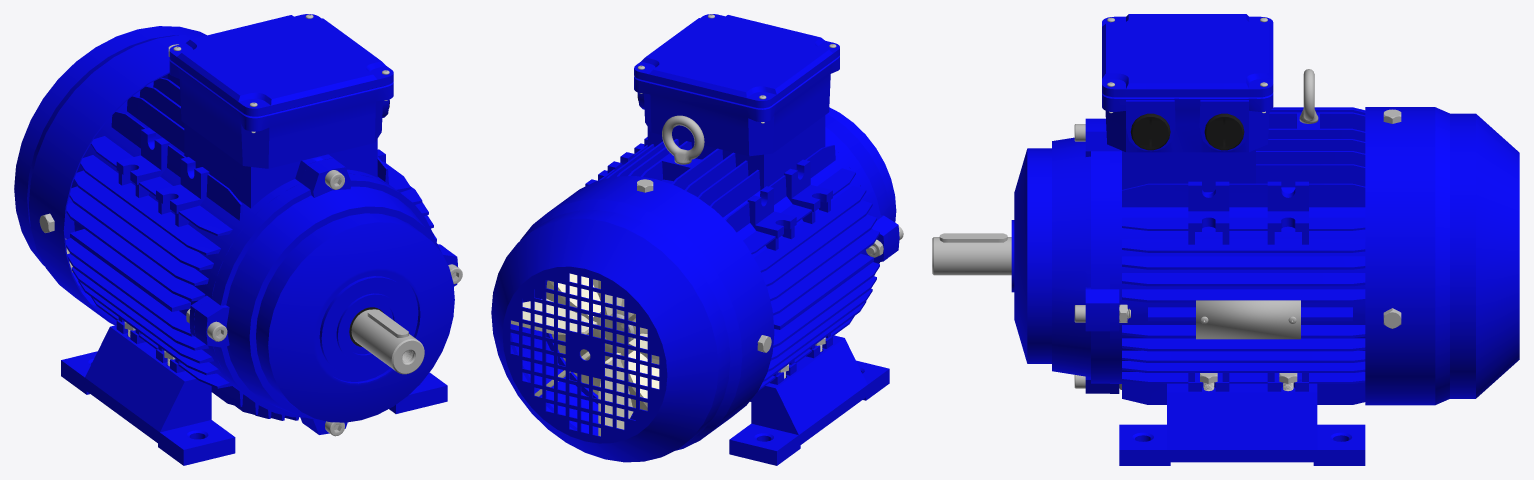
The model's file is electric-motor-low.glb.
3 views of the same model, side by side, from view 1: azimuth 30°, elevation 25°; view 2: azimuth 150°, elevation 25°; view 3: azimuth 270°, elevation 25° (orthographic). The views are drawn at different scales.
Parts seen in each view (by area): view 1: End bell_2, Casing_0, Electric shield_6, Cover_1, Legs_5, Shaft_4, Nut_8, Pin_7; view 2: Cover_1, Casing_0, Electric shield_6, Legs_5, Fan_15, End bell_2, Rim Bolt_16; view 3: Casing_0, Cover_1, End bell_2, Electric shield_6, Legs_5, Plane_19, Shaft_4, Caps_18, Nut_8, Rim Bolt_16, Pin_7.
Part boxes in pixels (x1,y1,x2,y2): End bell_2: (194, 158, 458, 434); Casing_0: (65, 73, 444, 425); Electric shield_6: (169, 14, 393, 168); Cover_1: (14, 26, 206, 325); Legs_5: (61, 325, 447, 465); Shaft_4: (351, 309, 424, 374); Nut_8: (186, 170, 462, 436); Pin_7: (367, 309, 408, 337); Cover_1: (491, 176, 774, 462); Casing_0: (522, 115, 888, 420); Electric shield_6: (634, 14, 839, 156); Legs_5: (729, 335, 889, 465); Fan_15: (511, 273, 659, 436); End bell_2: (825, 107, 899, 275); Rim Bolt_16: (662, 115, 704, 164); Casing_0: (1110, 107, 1365, 404); Cover_1: (1365, 107, 1519, 405); End bell_2: (1011, 118, 1109, 393); Electric shield_6: (1102, 14, 1273, 152); Legs_5: (1119, 383, 1365, 465); Plane_19: (1196, 300, 1300, 339); Shaft_4: (932, 237, 1011, 275); Caps_18: (1130, 113, 1244, 150); Nut_8: (1074, 124, 1130, 389); Rim Bolt_16: (1299, 69, 1318, 123); Pin_7: (939, 233, 1007, 242).
Bounding box in the file's own units: 0.2293 × 0.2848 × 0.4297.
